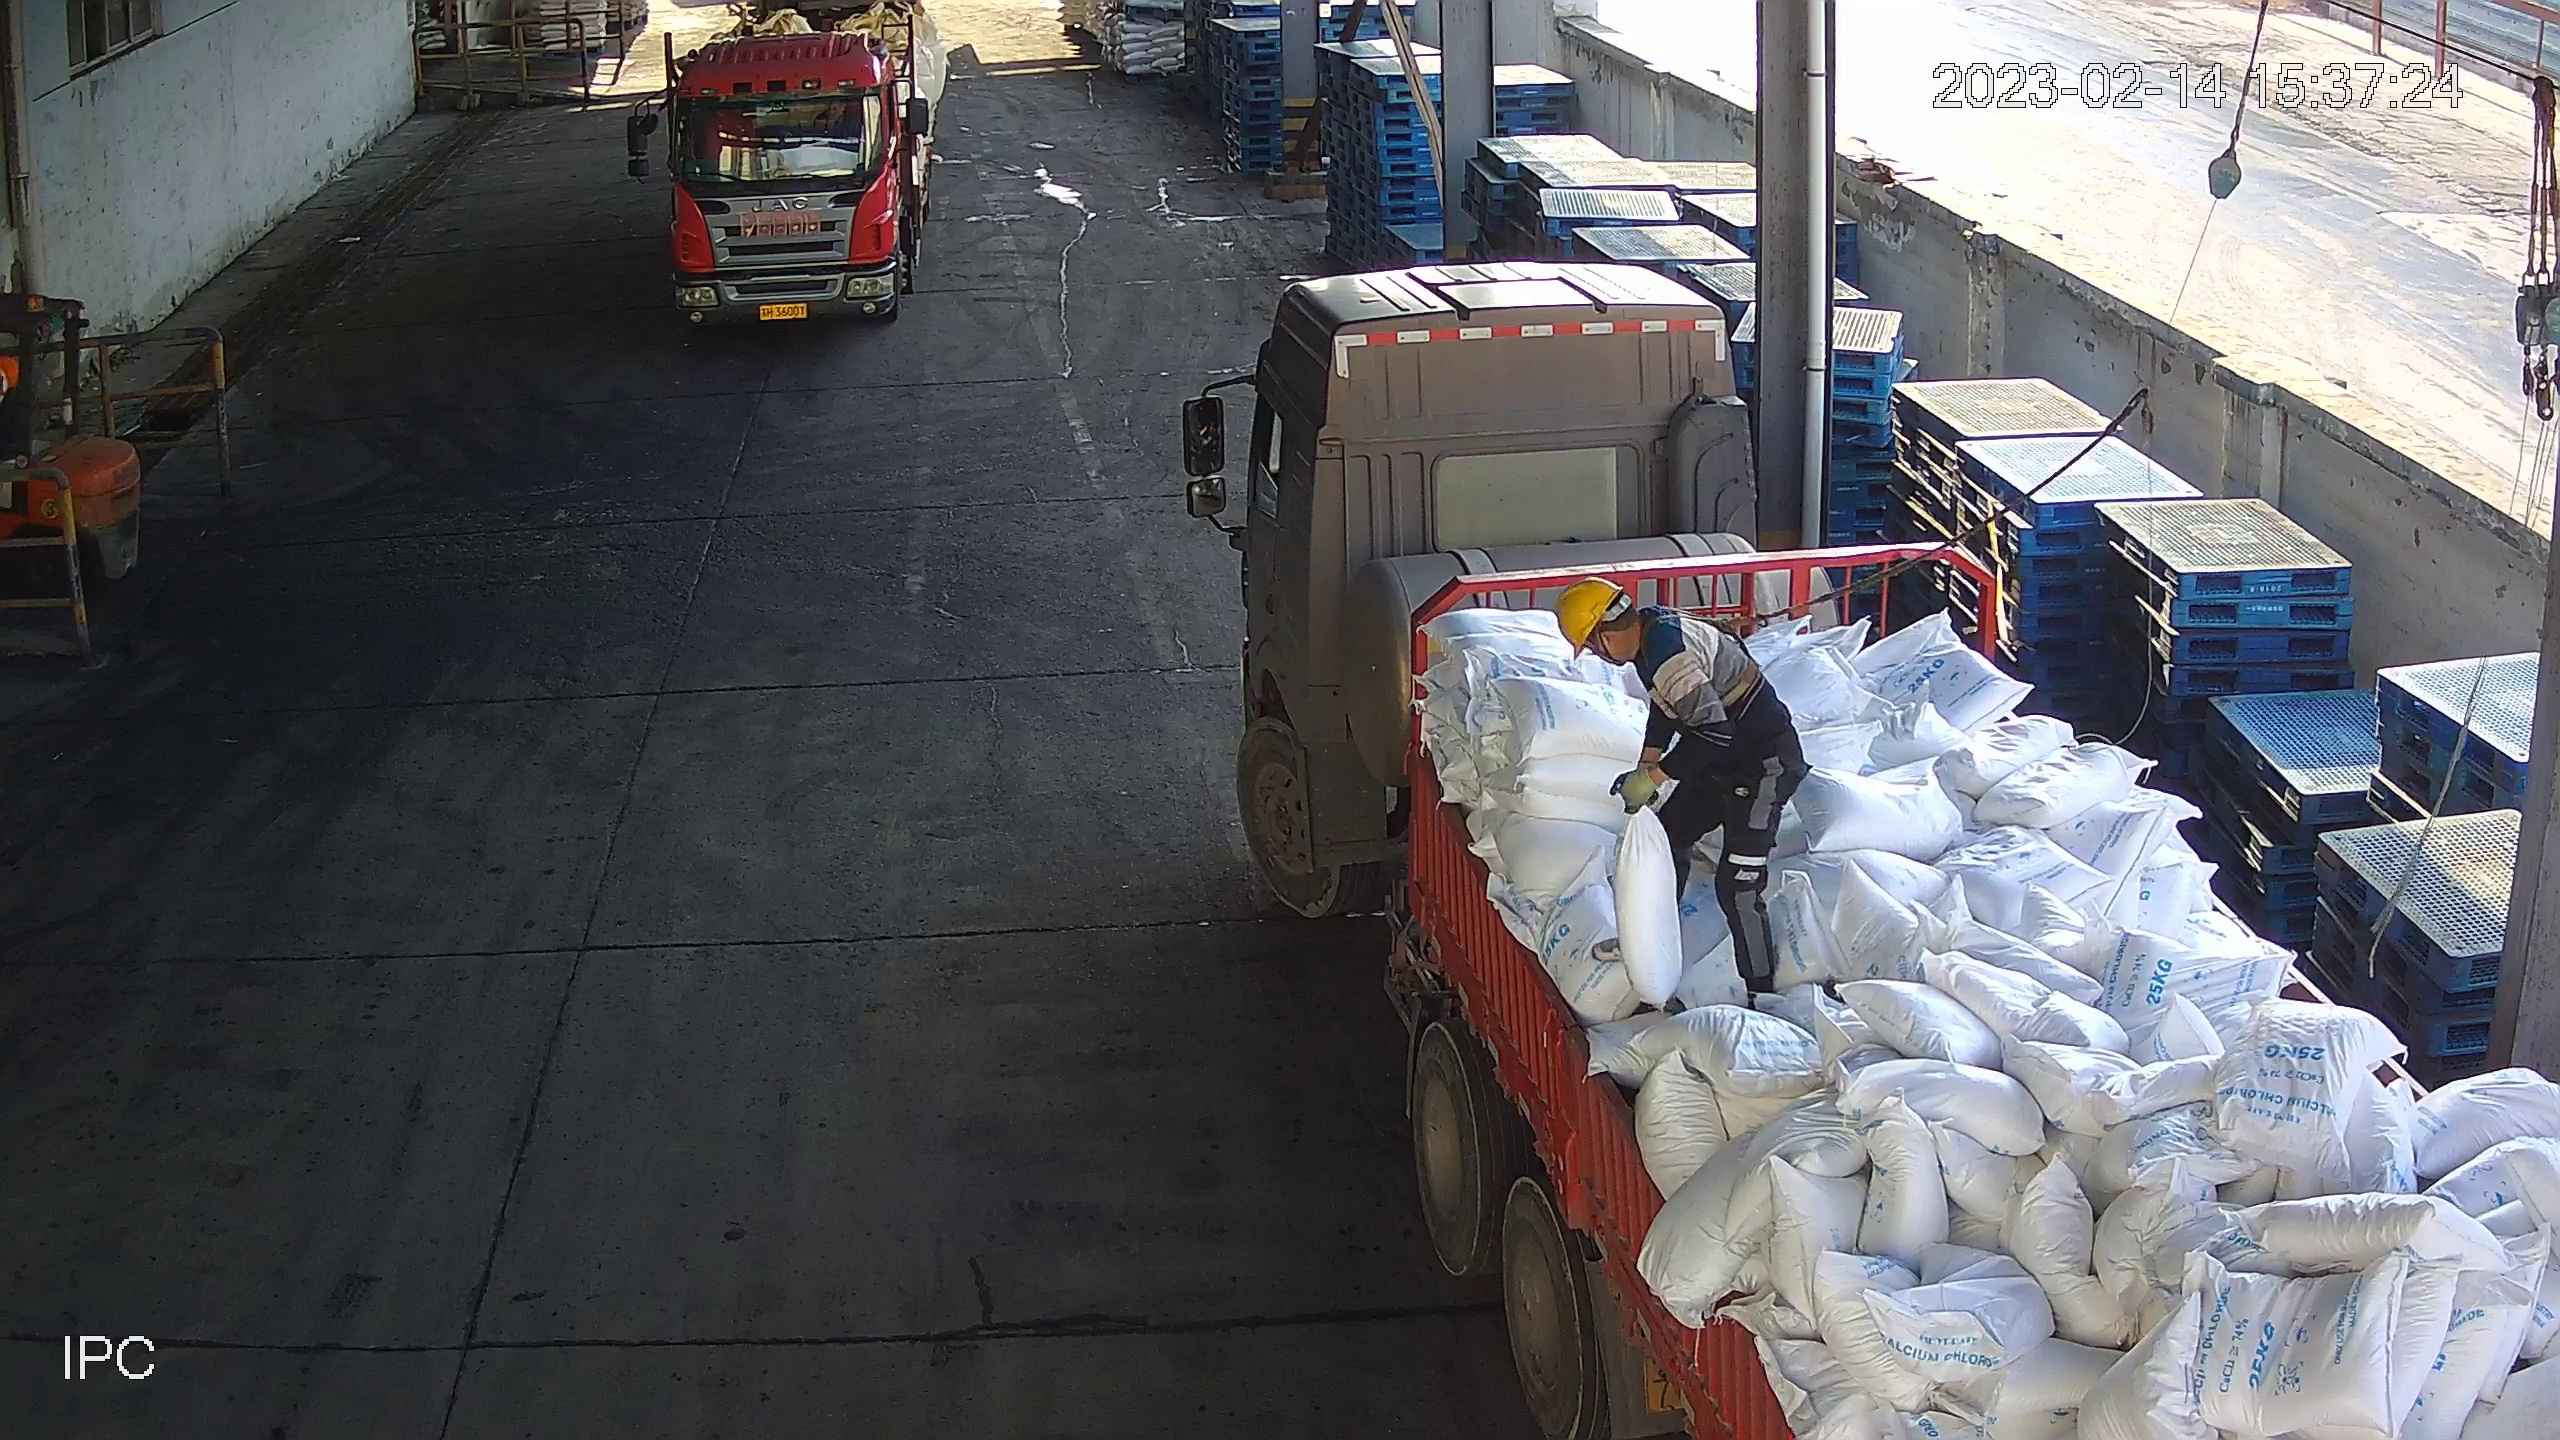belt: (1683, 604, 1777, 703)
head: (1546, 580, 1725, 716)
helmet: (1544, 571, 1633, 658)
people: (1549, 578, 1820, 1004)
truck: (1179, 262, 2560, 1440), (642, 10, 953, 336)
